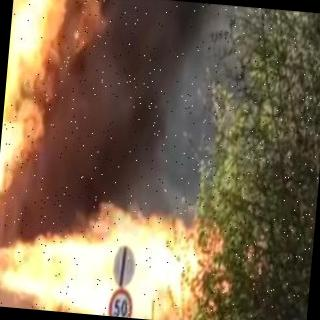smoke: (48, 24, 222, 214), (0, 286, 122, 317)
